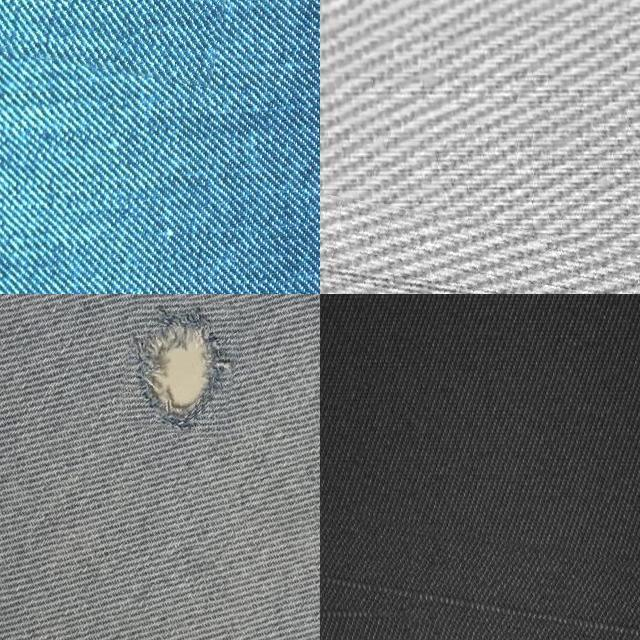other: (119, 294, 239, 437)
stains: (320, 517, 640, 640), (320, 207, 640, 294)
